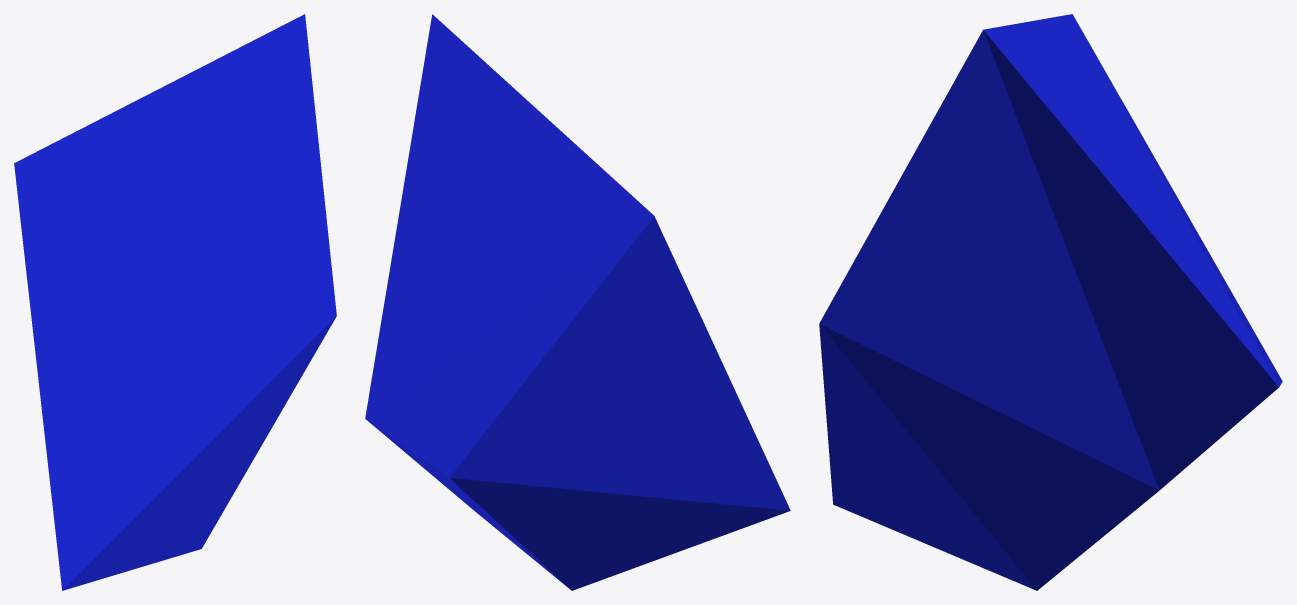
3 views of the same model, side by side, from view 1: azimuth 30°, elevation 25°; view 2: azimuth 150°, elevation 25°; view 3: azimuth 270°, elevation 25° (orthographic). The views are drawn at different scales.
Visible parts, largest first — view 1: Icosphere; view 2: Icosphere; view 3: Icosphere.
Part boxes in pixels (<box>): Icosphere: <box>14,14,336,590</box>; Icosphere: <box>365,14,790,590</box>; Icosphere: <box>819,14,1282,590</box>.
Size of the model in its own units: 3.77 by 6.23 by 3.96.
